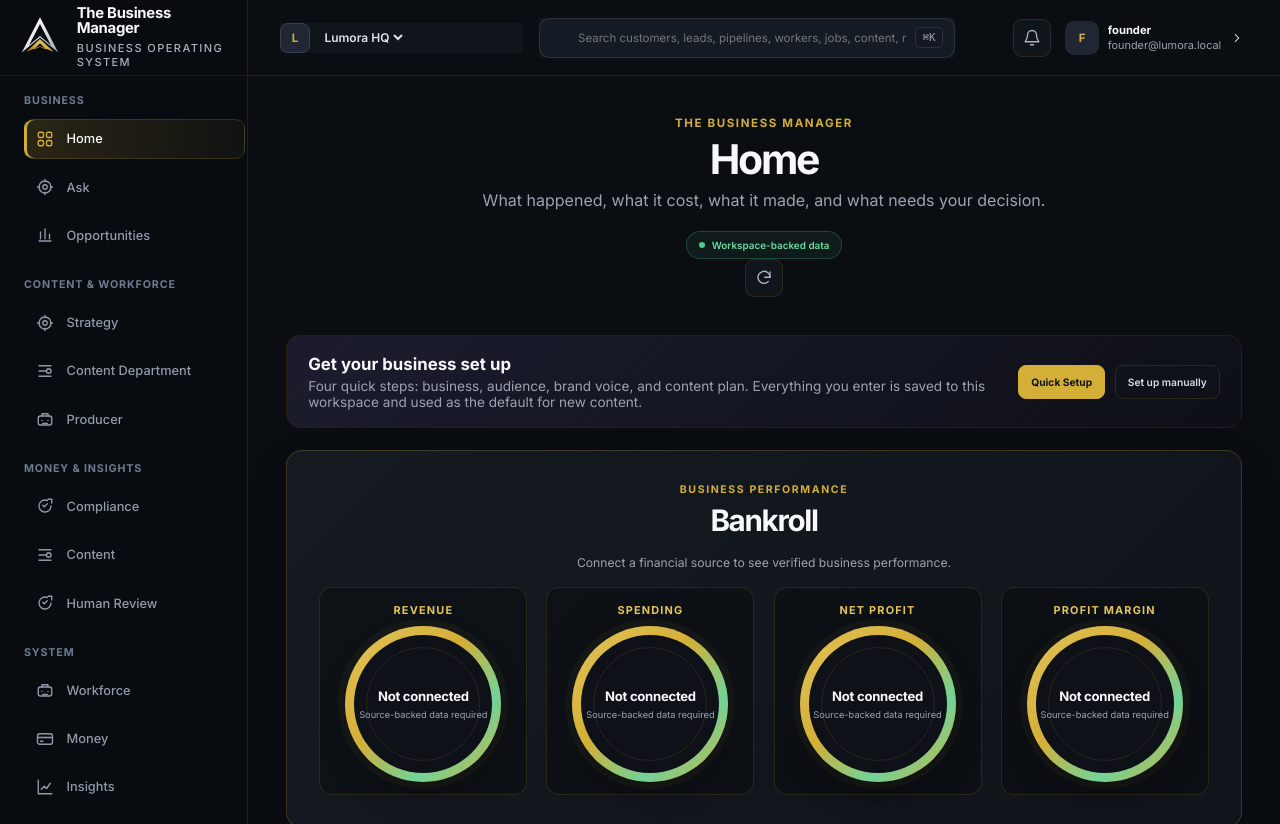
Test: dashboard navigation smoke test › routes command palette deep links to the intended destination
Expected: the heading "Home" is shown, [710, 134, 818, 184]
Press k
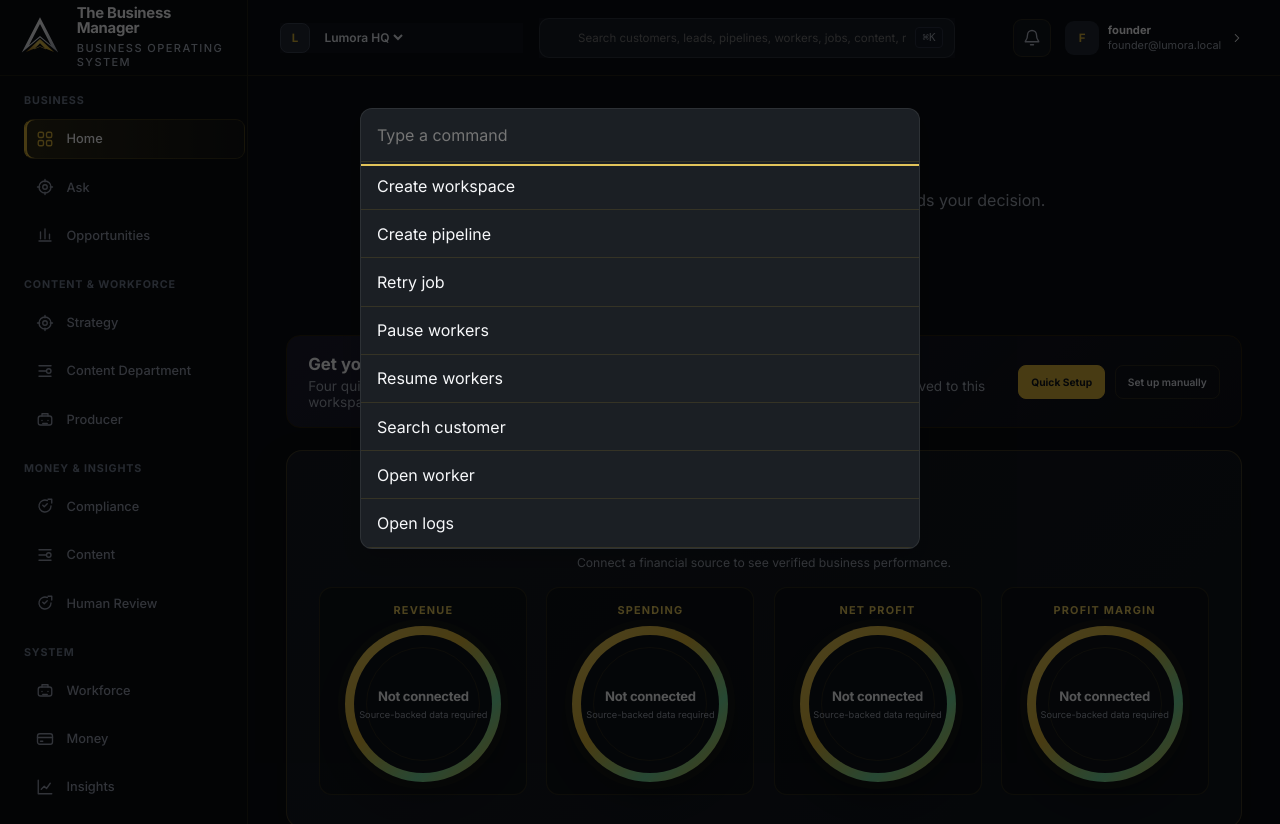
Click the button "Open logs": x=416, y=523 [361, 499, 919, 548]
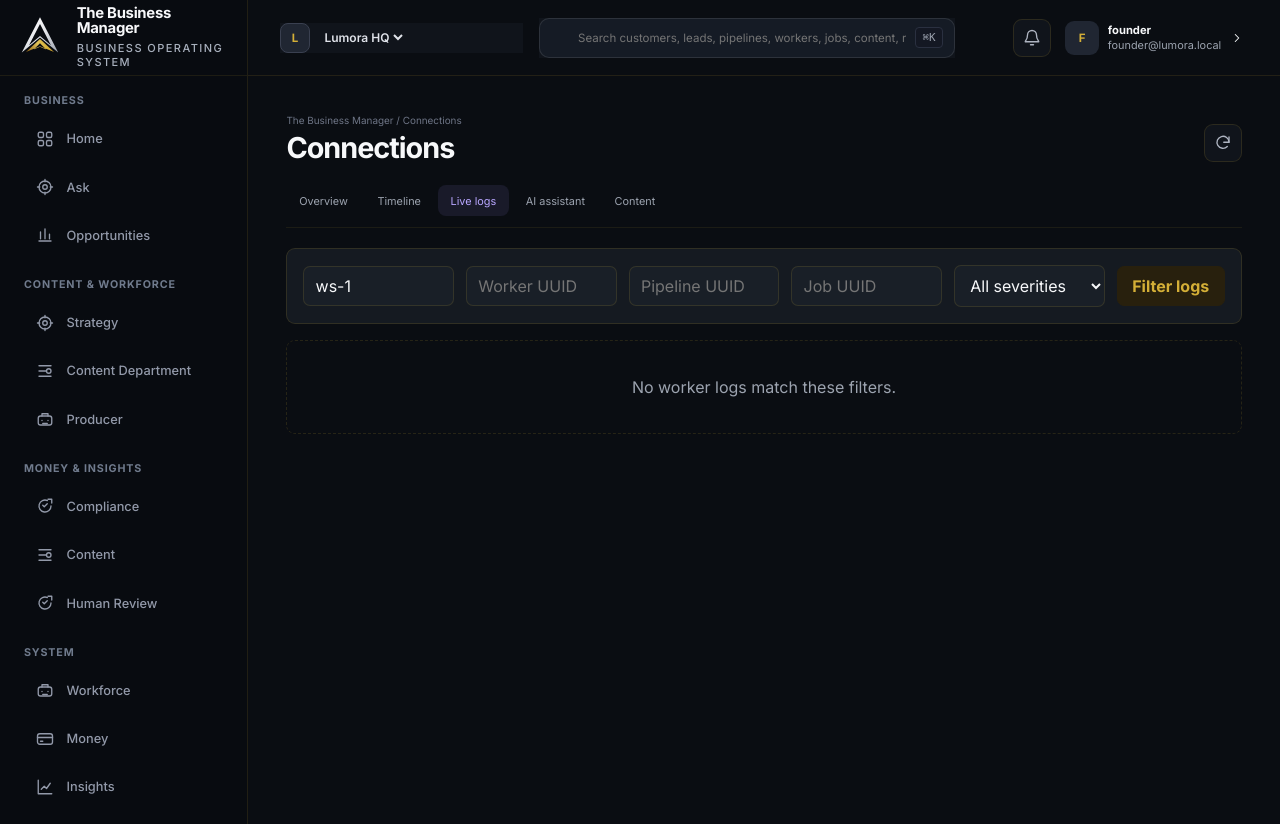
Expected: the panel named "live logs" is shown, [286, 248, 1242, 434]
Expected: the text "No worker logs match these filters." is shown, [286, 340, 1242, 434]
